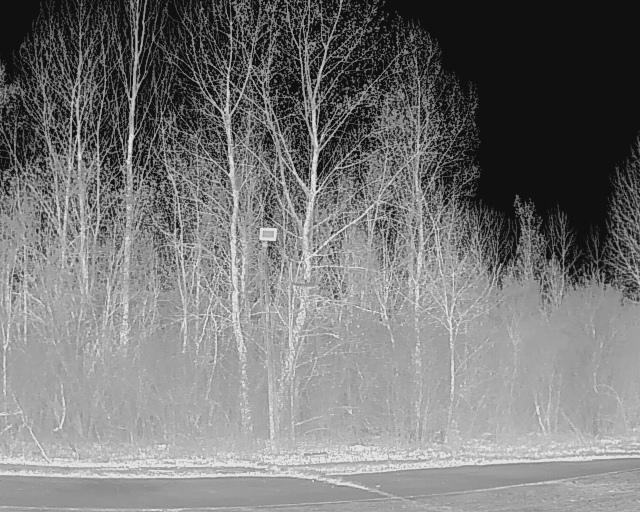drone: (281, 272, 330, 297)
